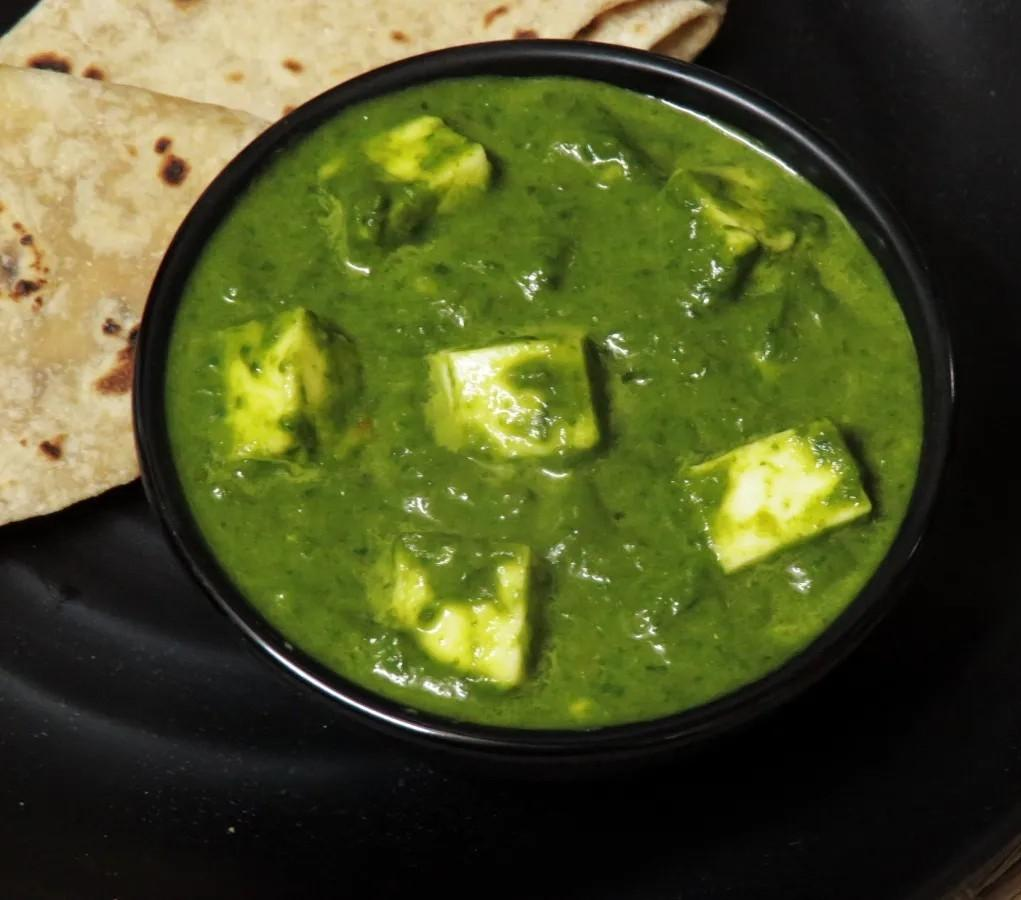PalakPaneer: (163, 70, 919, 727)
